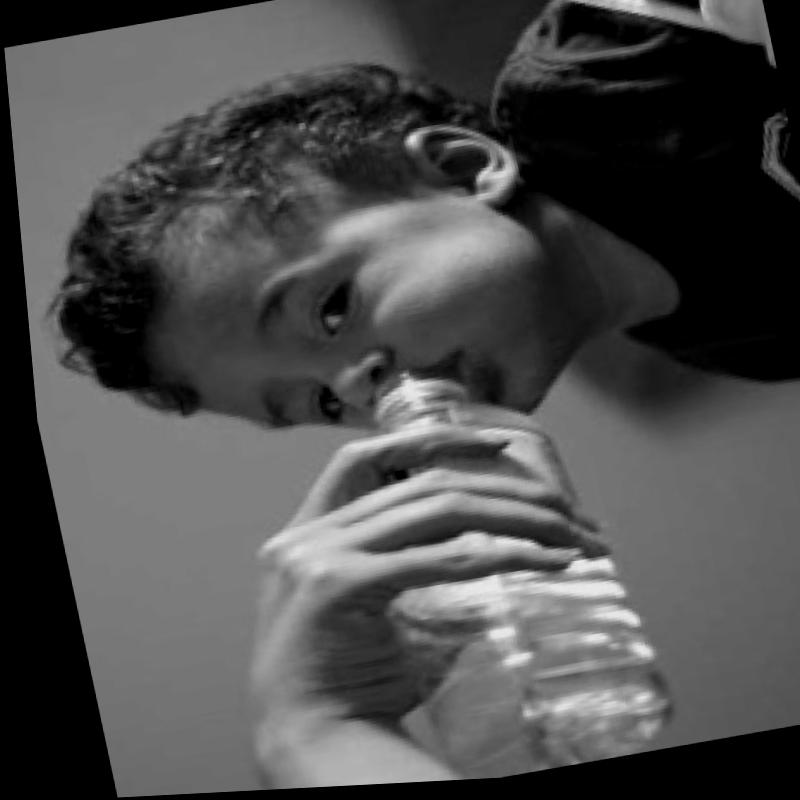botella: (336, 349, 670, 787)
